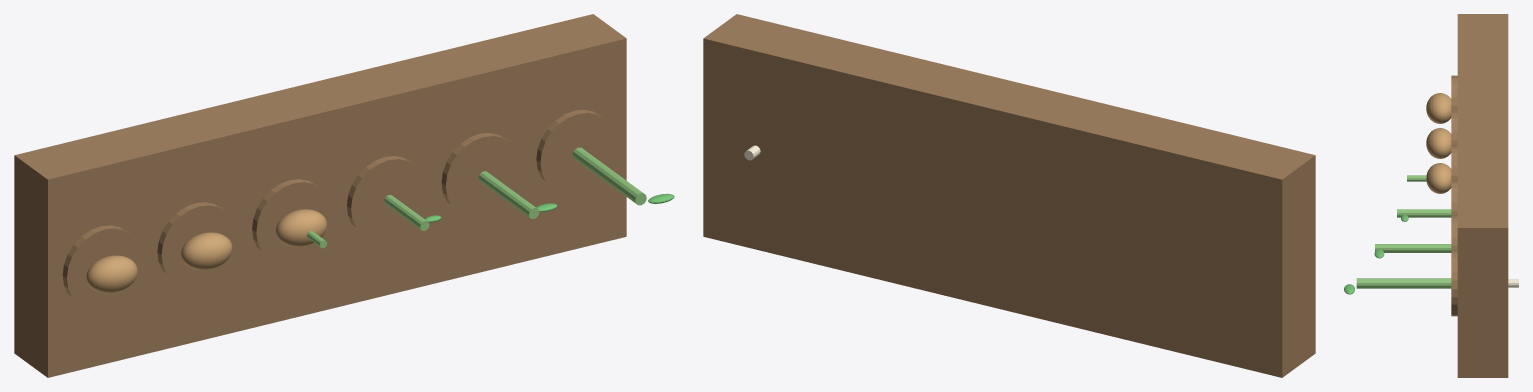
The model's file is germinacao_sementes_AR.glb.
3 renders of one model, left to right at view 1: azimuth 30°, elevation 25°; view 2: azimuth 150°, elevation 25°; view 3: azimuth 270°, elevation 25°, orthographic. The views are drawn at different scales.
Parts seen in each view (by area): view 1: Bloco de solo, Solo etapa 4, Solo etapa 5, Solo etapa 6, Solo etapa 1, Solo etapa 2, Solo etapa 3, Etapa 1 - Semente, Etapa 2 - Semente, Etapa 3 - Semente, Caule etapa 6, Caule etapa 5 (+1 smaller); view 2: Bloco de solo; view 3: Bloco de solo, Caule etapa 6, Etapa 1 - Semente, Etapa 2 - Semente, Etapa 3 - Semente, Caule etapa 5, Caule etapa 4, Solo etapa 6, Solo etapa 1, Solo etapa 2, Solo etapa 3, Solo etapa 4 (+1 smaller).
Boxes of the visible parts, bbox=[...] form: Bloco de solo: bbox=[14, 14, 626, 377]; Solo etapa 4: bbox=[347, 156, 426, 240]; Solo etapa 5: bbox=[441, 133, 521, 217]; Solo etapa 6: bbox=[536, 109, 616, 194]; Solo etapa 1: bbox=[62, 225, 142, 309]; Solo etapa 2: bbox=[157, 202, 237, 286]; Solo etapa 3: bbox=[252, 179, 331, 263]; Etapa 1 - Semente: bbox=[86, 255, 137, 293]; Etapa 2 - Semente: bbox=[181, 232, 232, 270]; Etapa 3 - Semente: bbox=[276, 209, 327, 247]; Caule etapa 6: bbox=[572, 147, 646, 205]; Caule etapa 5: bbox=[478, 171, 539, 218]; Bloco de solo: bbox=[703, 14, 1315, 377]; Bloco de solo: bbox=[1457, 14, 1508, 377]; Caule etapa 6: bbox=[1356, 278, 1451, 288]; Etapa 1 - Semente: bbox=[1426, 93, 1451, 123]; Etapa 2 - Semente: bbox=[1426, 128, 1451, 158]; Etapa 3 - Semente: bbox=[1426, 163, 1451, 193]; Caule etapa 5: bbox=[1375, 244, 1451, 252]; Caule etapa 4: bbox=[1397, 209, 1451, 217]; Solo etapa 6: bbox=[1451, 250, 1457, 316]; Solo etapa 1: bbox=[1451, 75, 1457, 110]; Solo etapa 2: bbox=[1451, 110, 1457, 145]; Solo etapa 3: bbox=[1451, 145, 1457, 180]; Solo etapa 4: bbox=[1451, 180, 1457, 215].
Bounding box in the file's own units: 11 × 3.6 × 3.8.
